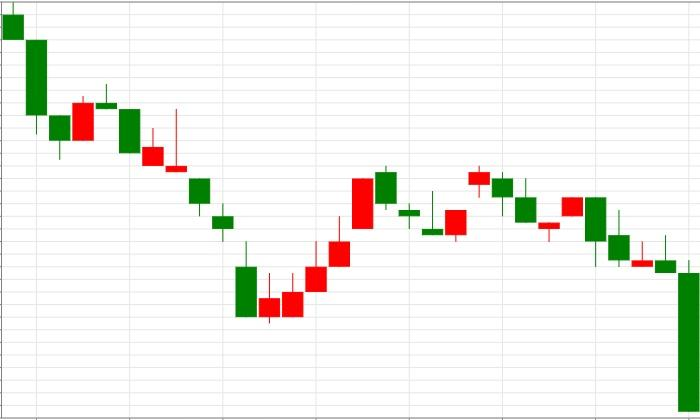three_white_soldiers_rise: (95, 84, 351, 323)
